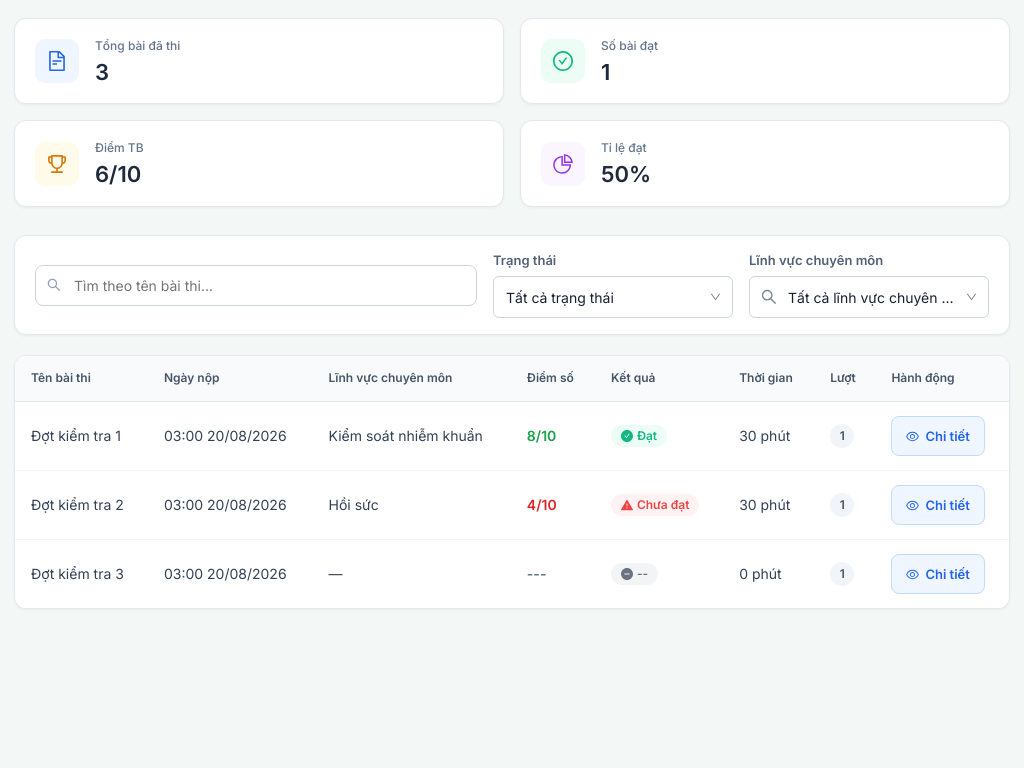
Test case: ExamHistoryScreen - chi tiết lượt thi › nhắc chưa công bố đáp án khi lượt không có answers
Expected: the text "Đợt kiểm tra 1" is shown, [15,402,148,471]
Click the button "Chi tiết" in the row of "Đợt kiểm tra 1".
click(938, 436)  # box [891,416,985,456]
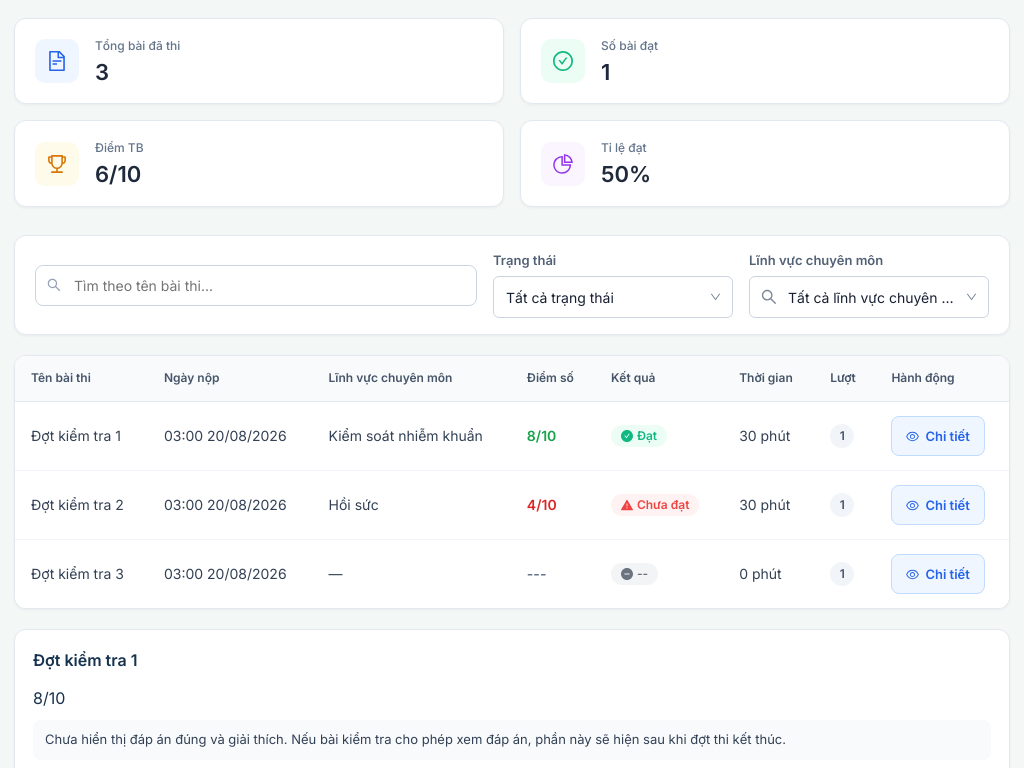
Expected: the text "Chưa hiển thị đáp án đúng và giải thích" is shown, [45,731,786,747]
